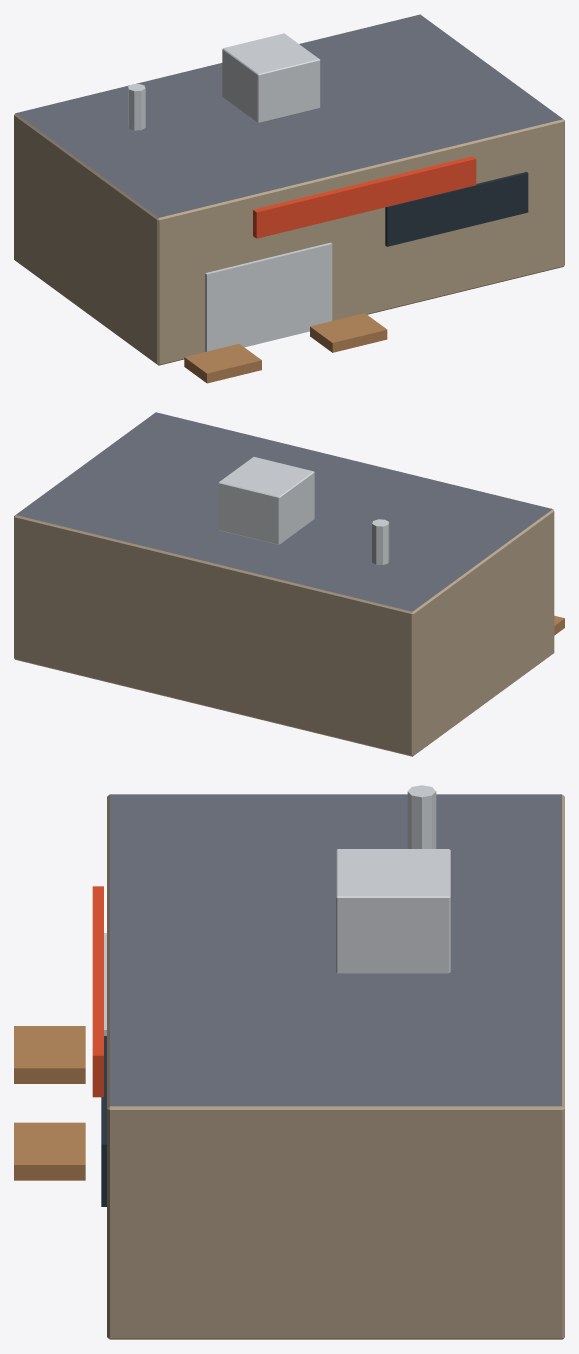
Rendered from commissary.fbx.
The picture shows the model from 3 angles, top to bottom: view 1: azimuth 30°, elevation 25°; view 2: azimuth 150°, elevation 25°; view 3: azimuth 270°, elevation 25°; orthographic projection. The views are drawn at different scales.
Parts seen in each view (by area): view 1: commissary; view 2: commissary; view 3: commissary.
Part boxes in pixels (<box>): commissary: <box>14,14,564,383</box>; commissary: <box>14,412,564,756</box>; commissary: <box>14,785,564,1339</box>.
Size of the model in its own units: 26 by 12 by 19.25.
